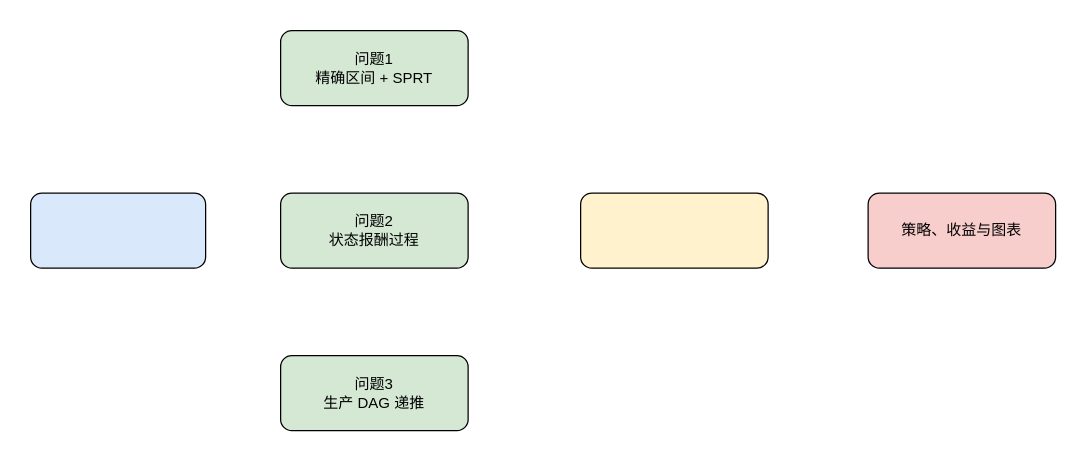
This 1078x453 diagram has some shape labels left out. The shapes that lost their labels are listed below. From the top down, each one's box as (x1, y1, x2, y2) in pixels, then its label:
(29, 192, 206, 268): 题面与抽样数据
(579, 192, 768, 268): 问题4 情景传播
